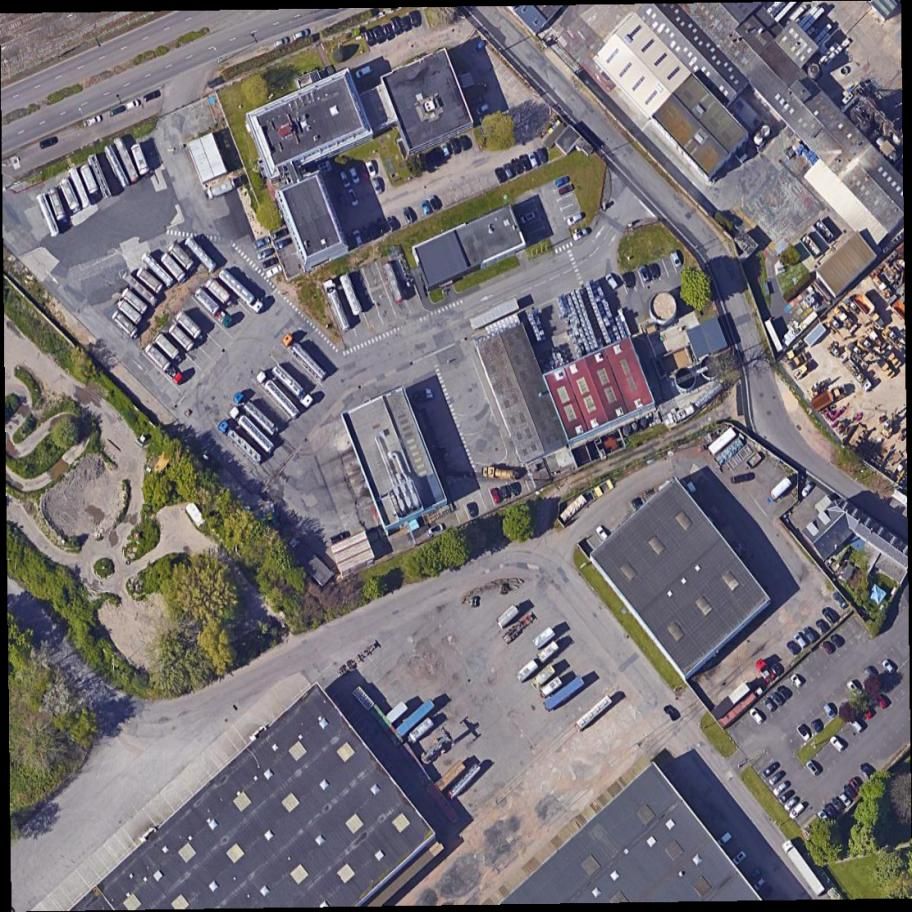large-vehicle: (276, 329, 333, 387), (230, 389, 284, 441), (214, 266, 269, 317), (252, 368, 303, 423), (225, 404, 277, 457), (268, 361, 320, 412), (782, 843, 826, 897), (141, 341, 188, 388), (191, 286, 238, 332), (217, 420, 265, 465), (180, 233, 221, 276), (111, 134, 144, 186), (84, 150, 116, 203), (323, 279, 353, 332), (100, 143, 132, 192), (33, 191, 62, 240), (65, 165, 93, 212), (56, 177, 85, 218), (77, 162, 103, 198), (128, 141, 152, 179), (480, 464, 523, 482), (48, 188, 67, 221)
small-vehicle: (752, 657, 779, 686), (842, 676, 865, 700), (830, 590, 851, 612), (408, 8, 426, 31), (80, 114, 104, 131), (37, 135, 61, 152), (715, 829, 735, 849), (730, 848, 750, 868), (251, 235, 274, 252), (766, 658, 785, 678), (757, 881, 777, 900), (787, 801, 807, 820), (388, 14, 405, 36), (255, 246, 278, 262), (795, 723, 814, 742), (663, 703, 682, 722), (747, 707, 766, 726), (571, 226, 591, 244), (800, 625, 818, 645), (761, 762, 781, 780), (446, 137, 463, 158), (604, 271, 621, 292), (264, 264, 285, 281), (361, 28, 378, 49), (259, 256, 281, 272), (142, 89, 164, 105), (291, 27, 313, 43), (798, 481, 816, 500), (792, 632, 810, 651), (788, 672, 806, 691), (751, 875, 770, 893), (745, 866, 764, 884), (767, 769, 786, 787), (828, 736, 847, 754), (848, 717, 866, 736), (840, 783, 859, 801), (371, 25, 388, 45), (508, 155, 524, 176), (804, 760, 822, 778), (821, 607, 838, 626), (821, 702, 838, 721), (774, 684, 791, 703), (457, 133, 472, 154), (621, 270, 636, 291), (338, 169, 353, 190), (785, 639, 802, 657), (778, 788, 796, 805), (859, 763, 876, 781), (829, 796, 846, 814), (274, 237, 294, 252), (400, 206, 415, 226), (518, 153, 533, 173), (534, 146, 549, 166), (637, 264, 652, 284), (270, 228, 290, 243), (364, 159, 379, 179), (108, 104, 128, 119), (425, 522, 445, 537), (760, 697, 777, 714), (773, 780, 790, 797), (822, 804, 839, 821), (837, 792, 854, 809), (814, 618, 830, 636), (370, 178, 385, 197), (367, 221, 382, 240), (557, 182, 576, 197), (565, 212, 584, 227), (381, 24, 396, 43), (400, 15, 415, 34), (489, 487, 504, 506), (669, 249, 683, 269), (272, 36, 293, 49), (881, 659, 897, 676), (821, 639, 837, 656), (828, 633, 844, 650), (768, 692, 785, 708), (426, 194, 441, 212), (346, 188, 360, 207), (419, 199, 433, 218), (646, 262, 660, 281), (348, 167, 362, 186), (357, 163, 371, 182), (848, 778, 864, 794), (783, 796, 799, 812), (875, 694, 890, 711), (595, 525, 610, 542), (817, 810, 832, 827), (359, 226, 373, 244), (439, 142, 453, 160), (554, 174, 572, 188), (386, 216, 400, 233), (352, 229, 365, 247), (503, 162, 516, 180), (125, 98, 143, 111), (466, 501, 479, 519), (809, 719, 824, 734), (495, 167, 508, 184), (527, 152, 540, 169), (509, 482, 522, 498), (629, 499, 643, 512), (499, 485, 511, 500)
